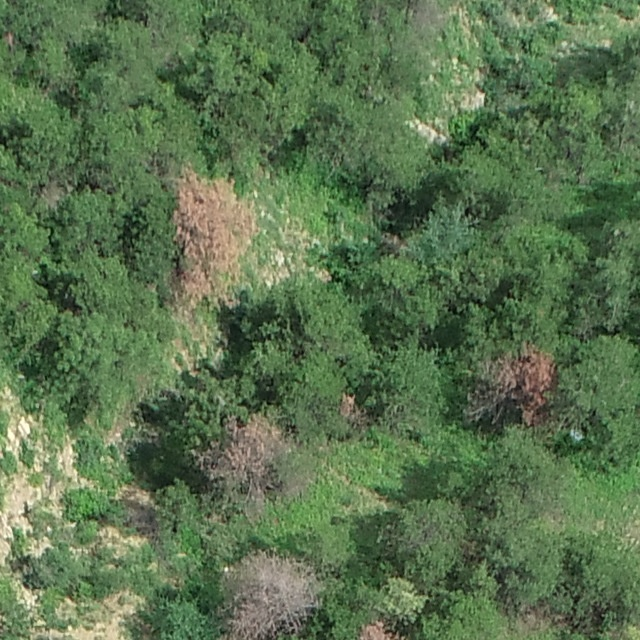unhealthy: (215, 545, 324, 639), (166, 166, 262, 270), (200, 402, 296, 501), (473, 343, 559, 429), (518, 601, 562, 635), (337, 391, 367, 429), (35, 177, 70, 207), (357, 616, 401, 639)
